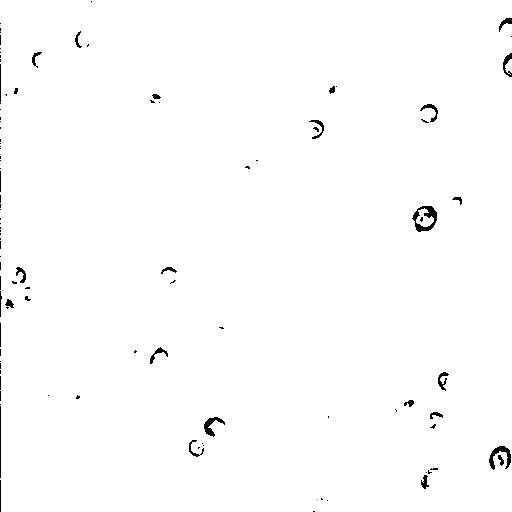micro-algae: (77, 405, 135, 459), (374, 16, 417, 59), (404, 219, 445, 261), (1, 270, 24, 316), (64, 379, 91, 411), (419, 465, 449, 493), (320, 75, 348, 103), (412, 204, 439, 231), (487, 443, 511, 473), (239, 149, 269, 173), (123, 339, 150, 365), (395, 388, 423, 413), (201, 413, 228, 438), (301, 117, 327, 141), (1, 73, 23, 101), (436, 494, 470, 512), (147, 345, 171, 369), (30, 49, 53, 73), (303, 495, 335, 511), (418, 101, 439, 125), (80, 1, 108, 18), (157, 265, 179, 284), (425, 410, 447, 429), (497, 14, 512, 41), (19, 289, 41, 307), (438, 371, 457, 391), (7, 266, 26, 285), (75, 29, 93, 49), (186, 438, 205, 456), (502, 49, 512, 79), (2, 294, 15, 317), (448, 195, 464, 210)
